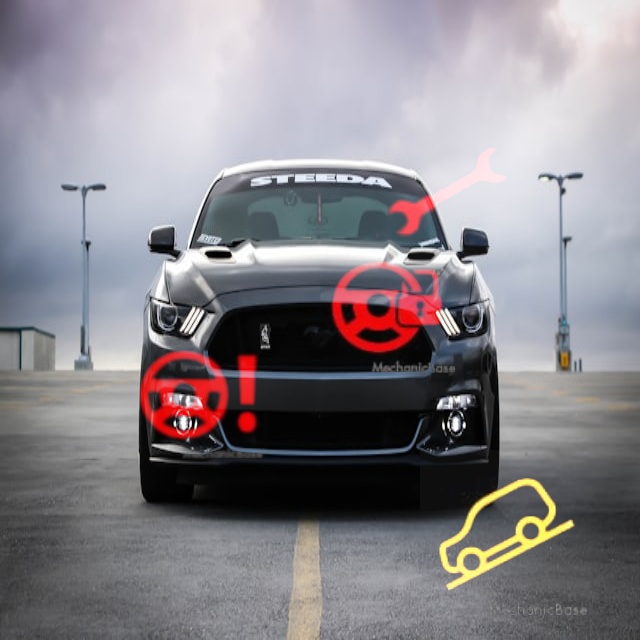symbol: (358, 99, 545, 286), (420, 450, 594, 624), (315, 234, 461, 380), (129, 326, 268, 465)
